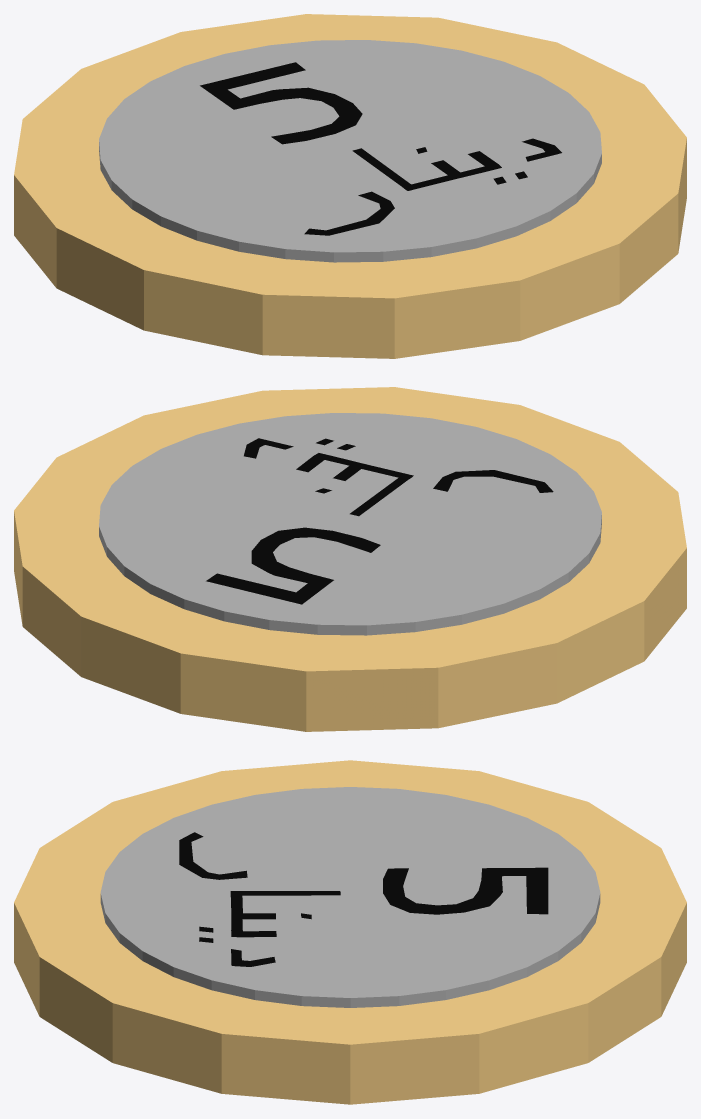
The picture shows the model from 3 angles, top to bottom: view 1: azimuth 30°, elevation 25°; view 2: azimuth 150°, elevation 25°; view 3: azimuth 270°, elevation 25°; orthographic projection.
Parts seen in each view (by area): view 1: Cylinder.001; view 2: Cylinder.001; view 3: Cylinder.001.
Part boxes in pixels (<box>): Cylinder.001: <box>14,14,686,358</box>; Cylinder.001: <box>14,387,686,731</box>; Cylinder.001: <box>14,760,686,1104</box>.
Bounding box in the file's own units: 191 × 25.1 × 191.
